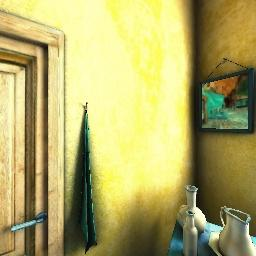door: (0, 37, 69, 256)
